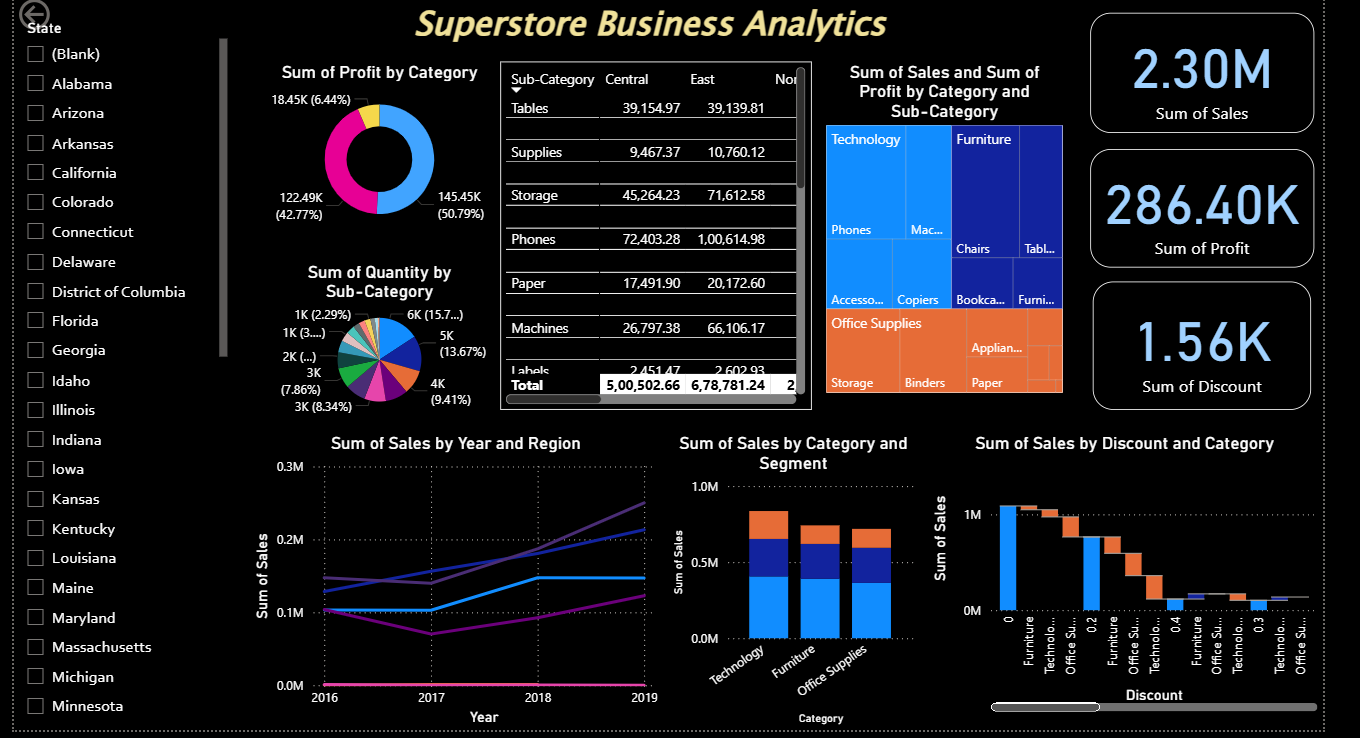

The dashboard page shown, as its layout file describes it:
{"tool":"powerbi","page":{"name":"Page 1","canvas":[1280,720],"ordinal":0},"visuals":[{"type":"textbox","box":[214,0,796.1,68.5],"z":0},{"type":"donutChart","fields":{"Y":["Sum(Orders.Profit)"],"Category":["Orders.Category"]},"box":[239.7,66,236,172.4],"z":1000},{"type":"columnChart","fields":{"Category":["Orders.Category"],"Y":["Sum(Orders.Sales)"],"Series":["Orders.Segment"]},"box":[639.5,429.2,245.8,291],"z":2000},{"type":"lineChart","fields":{"Category":["Orders.Order Date.Variation.Date Hierarchy.Year","Orders.Order Date.Variation.Date Hierarchy.Quarter","Orders.Order Date.Variation.Date Hierarchy.Month","Orders.Order Date.Variation.Date Hierarchy.Day"],"Y":["Sum(Orders.Sales)"],"Series":["Orders.Region"]},"box":[229.9,429.2,404.8,291],"z":3000},{"type":"waterfallChart","fields":{"Category":["Orders.Discount"],"Y":["Sum(Orders.Sales)"],"Breakdown":["Orders.Category"]},"box":[892.7,429.2,387.6,277.6],"z":4000},{"type":"card","fields":{"Values":["Sum(Orders.Sales)"]},"box":[1052.9,18.3,218.9,117.4],"z":5000},{"type":"card","fields":{"Values":["Sum(Orders.Profit)"]},"box":[1052.9,151.6,218.9,116.2],"z":6000},{"type":"card","fields":{"Values":["Sum(Orders.Discount)"]},"box":[1055.3,281.3,214,126],"z":7000},{"type":"treemap","fields":{"Group":["Orders.Category"],"Details":["Orders.Sub-Category"],"Values":["Sum(Orders.Sales)"]},"box":[789.9,66,240.9,328.9],"z":8000},{"type":"actionButton","box":[0,0,100,40],"z":9000},{"type":"slicer","fields":{"Values":["Orders.State"]},"box":[0,19.6,214,700.7],"z":10000},{"type":"pivotTable","fields":{"Rows":["Orders.Sub-Category"],"Columns":["Orders.Region"],"Values":["Sum(Orders.Sales)"]},"box":[475.7,66,304.5,341.2],"z":11000},{"type":"pieChart","fields":{"Category":["Orders.Sub-Category"],"Y":["Sum(Orders.Quantity)"]},"box":[239.7,261.7,236,154.1],"z":12000}]}

Visuals, with their boxes on the page's 1280x720 design canvas (x1, y1, x2, y2). These are canvas units, not pixel positions in the 1360x738 screenshot, which may show the page scaled, cropped or inside an application window:
textbox: {"x1": 214, "y1": 0, "x2": 1010, "y2": 68}
donutChart - Sum(Orders.Profit) x Orders.Category: {"x1": 240, "y1": 66, "x2": 476, "y2": 238}
columnChart - Orders.Category x Sum(Orders.Sales): {"x1": 640, "y1": 429, "x2": 885, "y2": 720}
lineChart - Orders.Order Date.Variation.Date Hierarchy.Year x Orders.Order Date.Variation.Date Hierarchy.Quarter: {"x1": 230, "y1": 429, "x2": 635, "y2": 720}
waterfallChart - Orders.Discount x Sum(Orders.Sales): {"x1": 893, "y1": 429, "x2": 1280, "y2": 707}
card - Sum(Orders.Sales): {"x1": 1053, "y1": 18, "x2": 1272, "y2": 136}
card - Sum(Orders.Profit): {"x1": 1053, "y1": 152, "x2": 1272, "y2": 268}
card - Sum(Orders.Discount): {"x1": 1055, "y1": 281, "x2": 1269, "y2": 407}
treemap - Orders.Category x Orders.Sub-Category: {"x1": 790, "y1": 66, "x2": 1031, "y2": 395}
actionButton: {"x1": 0, "y1": 0, "x2": 100, "y2": 40}
slicer - Orders.State: {"x1": 0, "y1": 20, "x2": 214, "y2": 720}
pivotTable - Orders.Sub-Category x Orders.Region: {"x1": 476, "y1": 66, "x2": 780, "y2": 407}
pieChart - Orders.Sub-Category x Sum(Orders.Quantity): {"x1": 240, "y1": 262, "x2": 476, "y2": 416}
